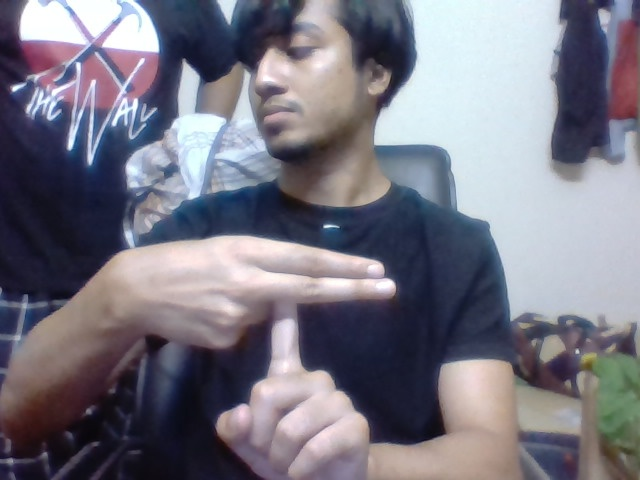F: (262, 236, 400, 366)
